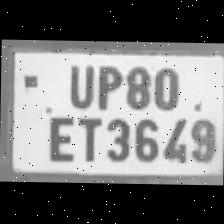0: (148, 62, 182, 110)
3: (100, 112, 130, 162)
4: (158, 111, 188, 163)
6: (130, 112, 160, 162)
8: (120, 61, 151, 110)
9: (186, 111, 216, 164)
E: (42, 109, 76, 166)
P: (92, 61, 122, 108)
T: (72, 111, 102, 164)
U: (61, 58, 96, 108)
